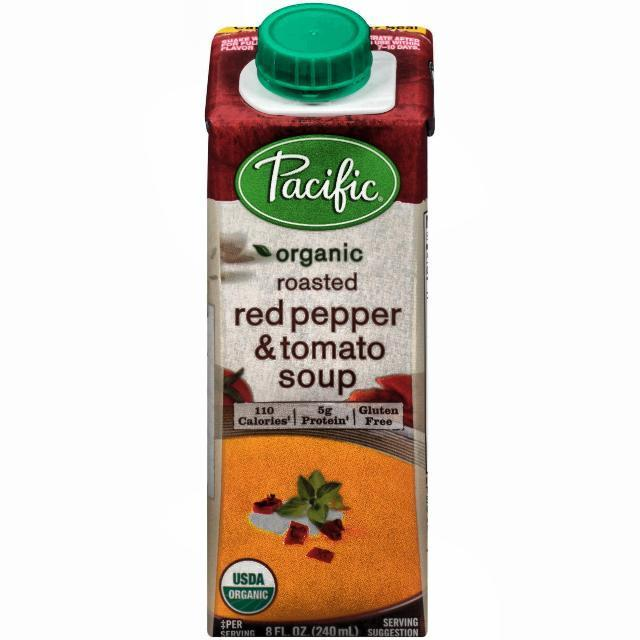cardboard: (204, 19, 434, 636)
